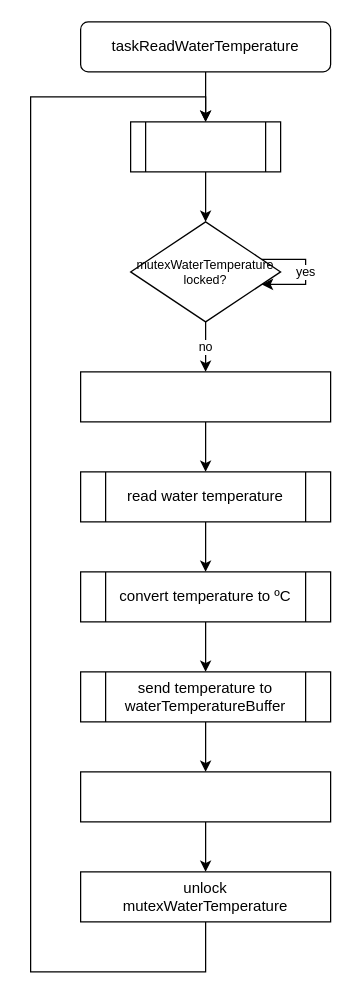
Image size: 355x1004. Some labels were removed from this diagram. Here are the shapes that lost their labels. From the top down, the centre of each, then its label:
At point (205, 146): "delay 1min".
At point (205, 396): "lock mutexWaterTemperature".
At point (205, 796): "send notificationWaterTemperatureAcquired".
